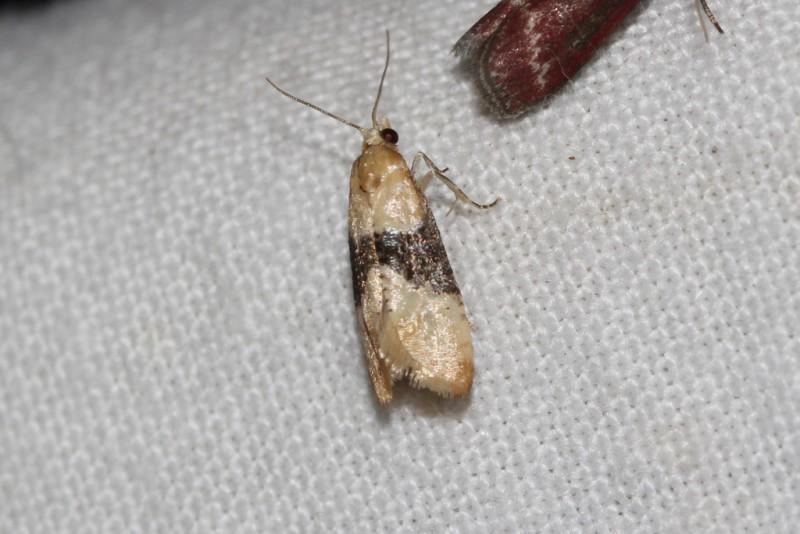Eupoecilia Ambiguella: (263, 27, 503, 409)
